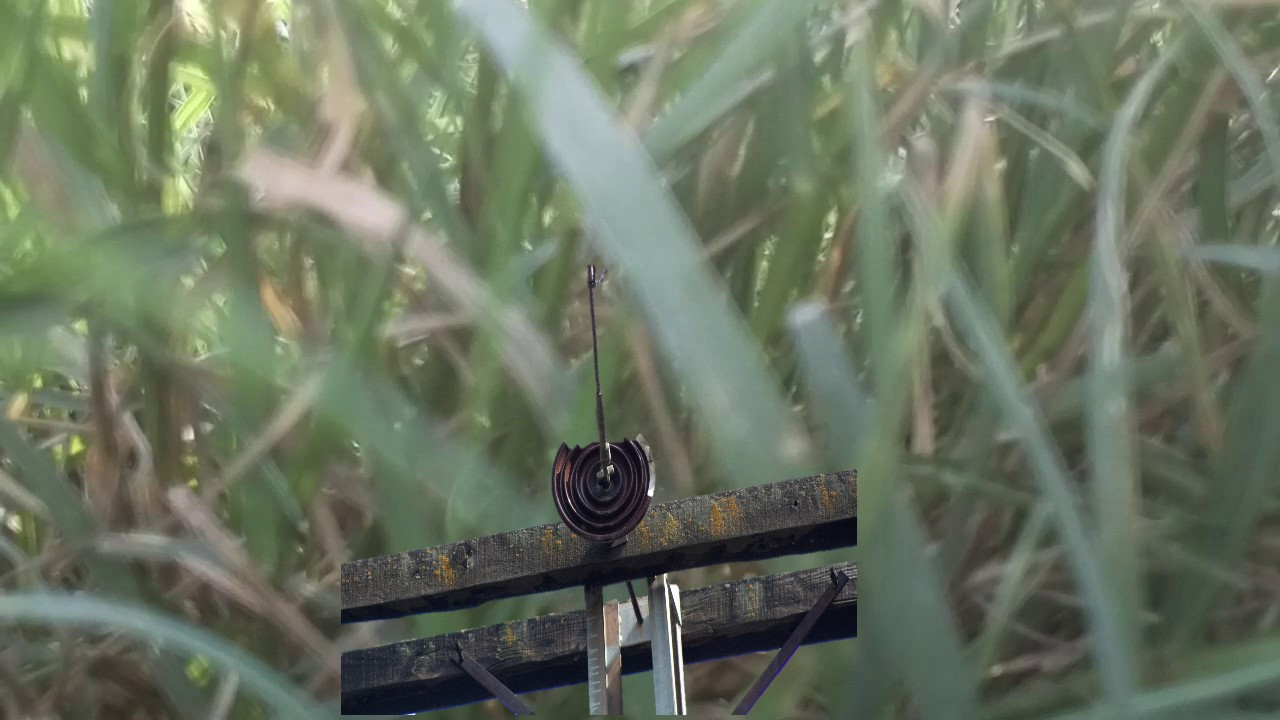defect_disc: (548, 429, 662, 549)
